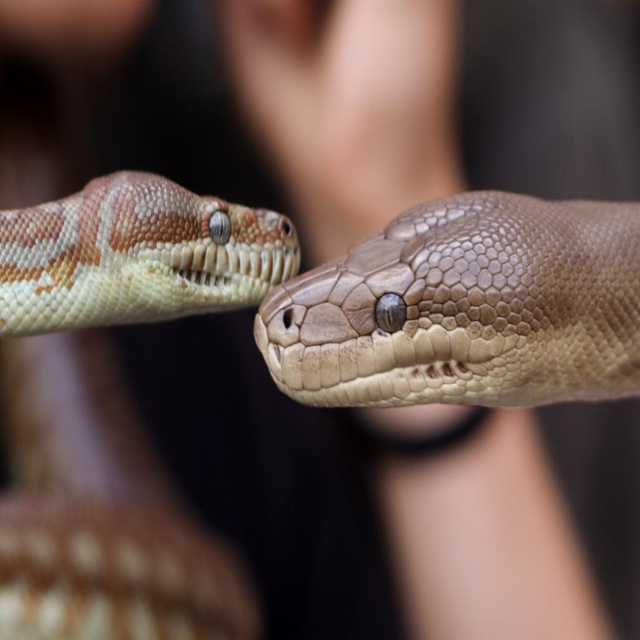Snake: (252, 182, 640, 411), (0, 169, 300, 322)
